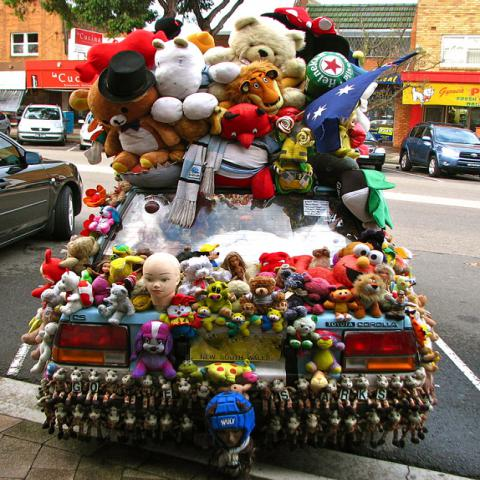car: (51, 183, 422, 390), (0, 131, 84, 247), (400, 123, 479, 178), (19, 104, 70, 145), (357, 132, 385, 172), (80, 112, 96, 148), (0, 111, 12, 137), (368, 148, 373, 156)
